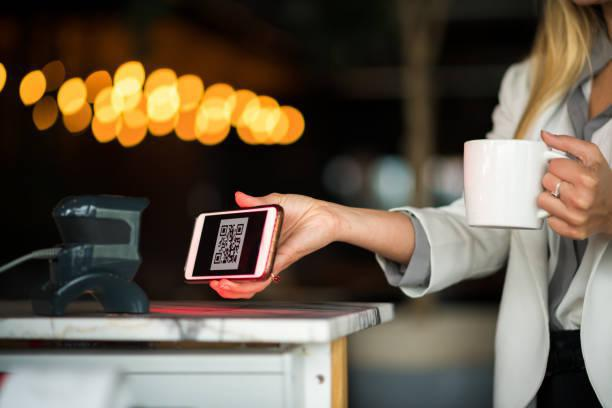Finder pattern: (213, 253, 224, 265), (219, 225, 230, 236), (235, 223, 244, 235)
